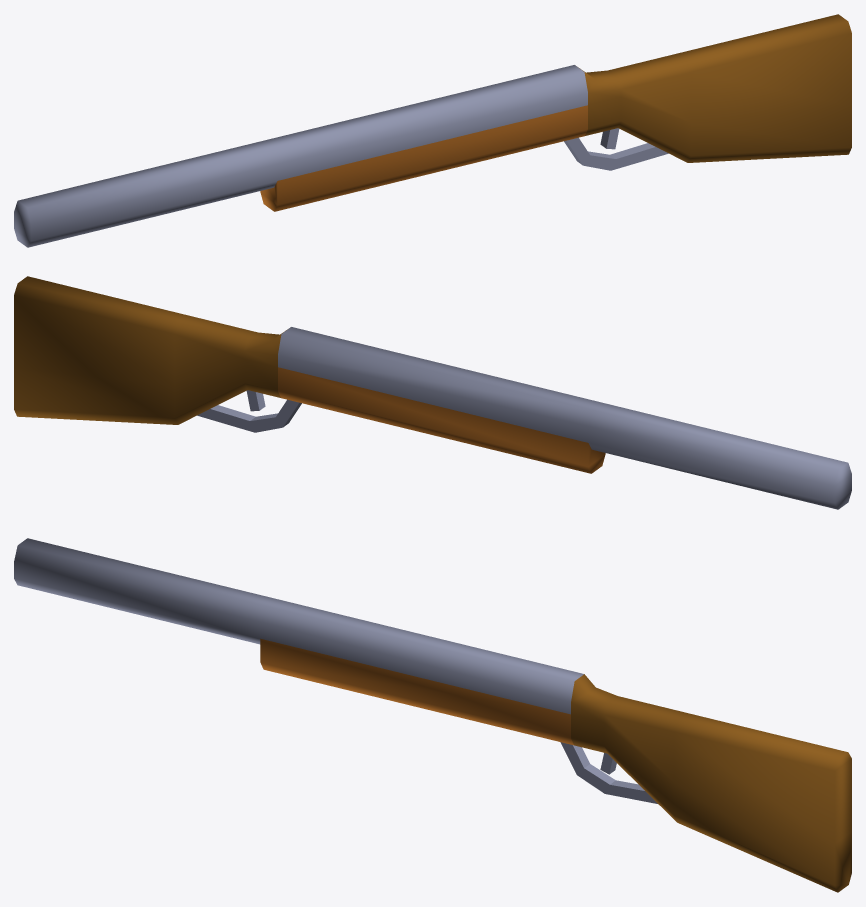
The model's file is bazooka_3.fbx.
3 renders of one model, top to bottom at view 1: azimuth 30°, elevation 25°; view 2: azimuth 150°, elevation 25°; view 3: azimuth 330°, elevation 25°, orthographic.
Visible parts, largest first — view 1: bazooka_3; view 2: bazooka_3; view 3: bazooka_3.
Boxes of the visible parts, x1=… form: bazooka_3: x1=14, y1=14, x2=851, y2=247; bazooka_3: x1=14, y1=276, x2=851, y2=509; bazooka_3: x1=14, y1=538, x2=851, y2=892.
Bounding box in the file's own units: 3.2 × 0.1156 × 0.547.
1 material, 1 textured.
